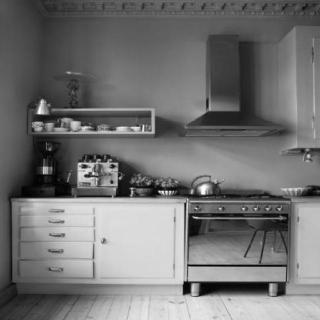other: (16, 198, 182, 295)
